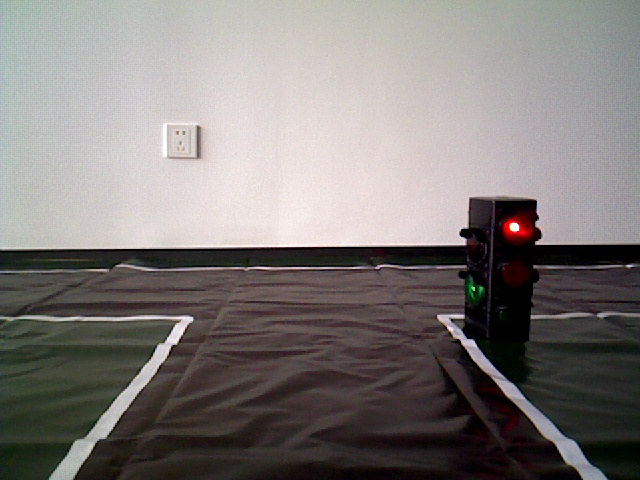red: (469, 198, 532, 333)
